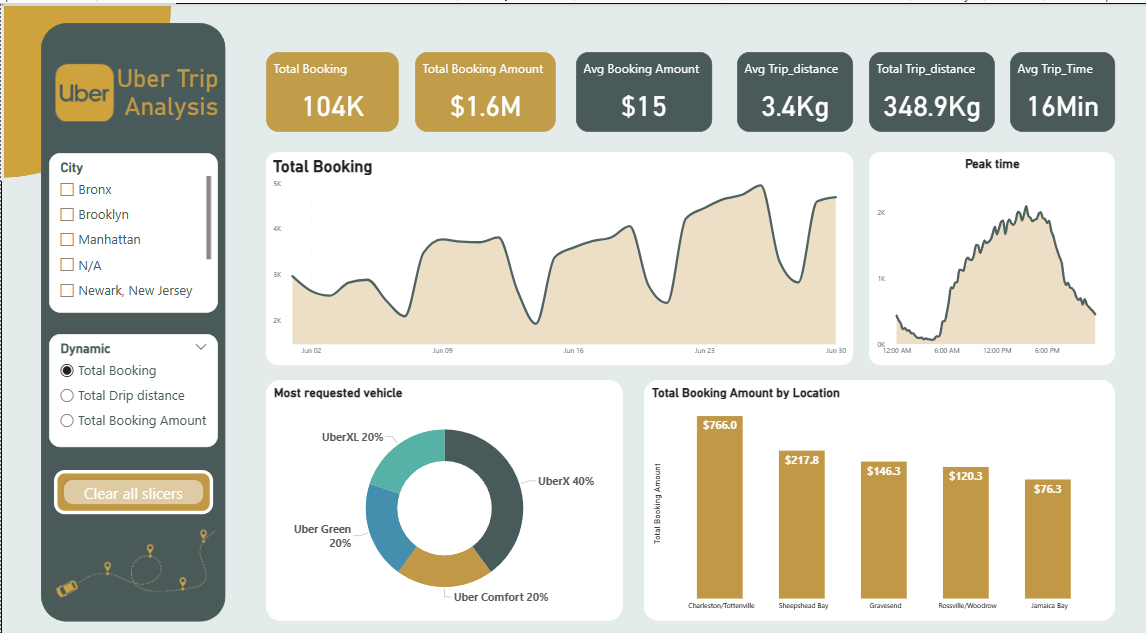

The dashboard page shown, as its layout file describes it:
{"tool":"powerbi","page":{"name":"Page 1","canvas":[2000,1100],"ordinal":0},"visuals":[{"type":"image","box":[0,0,305.2,309.2],"z":0},{"type":"shape","box":[70.3,34.1,321.3,1042.2],"z":1000},{"type":"card","fields":{"Values":["_Measure.Total Booking"]},"box":[461.2,85.3,231.5,139.2],"z":2000},{"type":"card","fields":{"Values":["_Measure.Total Booking Amount"]},"box":[720.6,85.3,245.4,139.2],"z":3000},{"type":"card","fields":{"Values":["_Measure.Avrage Booking Amount"]},"box":[1000.8,85.3,236.7,139.2],"z":4000},{"type":"card","fields":{"Values":["_Measure.Averaage Trip_distance"]},"box":[1281,85.3,201.9,139.2],"z":5000},{"type":"card","fields":{"Values":["_Measure.Total Drip distance"]},"box":[1510.8,85.3,219.3,139.2],"z":6000},{"type":"card","fields":{"Values":["_Measure.Avg Trip Time"]},"box":[1756.2,85.3,182.8,139.2],"z":7000},{"type":"areaChart","title":"Total Booking ","fields":{"Y":["_Measure.Total Booking"],"Category":["Calendar.Date.Variation.Date Hierarchy.Year","Calendar.Date.Variation.Date Hierarchy.Quarter","Calendar.Date.Variation.Date Hierarchy.Month","Calendar.Date.Variation.Date Hierarchy.Day"]},"box":[461.2,259.3,1021.7,370.7],"z":8000},{"type":"slicer","fields":{"Values":["Dynamic .Dynamic "]},"box":[83.5,576.1,294.1,196.7],"z":9000},{"type":"clusteredColumnChart","fields":{"Category":["Location.Location"],"Y":["_Measure.Total Booking Amount"]},"box":[1119.1,656.2,819.8,419.5],"z":10000},{"type":"donutChart","title":"Most requested vehicle ","fields":{"Category":["Trip Details.Vehicle"],"Y":["_Measure.Total Booking"]},"box":[461.2,656.2,621.4,419.5],"z":11000},{"type":"areaChart","title":"Peak time","fields":{"Y":["_Measure.Total Booking"],"Category":["Trip Details.Pickup Hour (bins)"]},"box":[1510,259,427.7,371.5],"z":12000},{"type":"textbox","box":[88.3,100.6,294.5,159.5],"z":13000},{"type":"image","box":[88.4,100.4,114.5,110.4],"z":14000},{"type":"slicer","fields":{"Values":["Location.City"]},"box":[83.5,261.1,294.1,278.5],"z":15000},{"type":"actionButton","box":[92.2,812.8,276.7,76.6],"z":16000},{"type":"image","box":[76.6,847.6,301.1,252.4],"z":17000}]}

Visuals, with their boxes in screenshot pixels (x1, y1, x2, y2), scaled from the page's 2000x1100 canvas onto the 1146x633 screenshot:
image: {"x1": 0, "y1": 0, "x2": 175, "y2": 178}
shape: {"x1": 40, "y1": 20, "x2": 224, "y2": 619}
card - _Measure.Total Booking: {"x1": 264, "y1": 49, "x2": 397, "y2": 129}
card - _Measure.Total Booking Amount: {"x1": 413, "y1": 49, "x2": 554, "y2": 129}
card - _Measure.Avrage Booking Amount: {"x1": 573, "y1": 49, "x2": 709, "y2": 129}
card - _Measure.Averaage Trip_distance: {"x1": 734, "y1": 49, "x2": 850, "y2": 129}
card - _Measure.Total Drip distance: {"x1": 866, "y1": 49, "x2": 991, "y2": 129}
card - _Measure.Avg Trip Time: {"x1": 1006, "y1": 49, "x2": 1111, "y2": 129}
"Total Booking " areaChart: {"x1": 264, "y1": 149, "x2": 850, "y2": 363}
slicer - Dynamic .Dynamic : {"x1": 48, "y1": 332, "x2": 216, "y2": 445}
clusteredColumnChart - Location.Location x _Measure.Total Booking Amount: {"x1": 641, "y1": 378, "x2": 1111, "y2": 619}
"Most requested vehicle " donutChart: {"x1": 264, "y1": 378, "x2": 620, "y2": 619}
"Peak time" areaChart: {"x1": 865, "y1": 149, "x2": 1110, "y2": 363}
textbox: {"x1": 51, "y1": 58, "x2": 219, "y2": 150}
image: {"x1": 51, "y1": 58, "x2": 116, "y2": 121}
slicer - Location.City: {"x1": 48, "y1": 150, "x2": 216, "y2": 311}
actionButton: {"x1": 53, "y1": 468, "x2": 211, "y2": 512}
image: {"x1": 44, "y1": 488, "x2": 216, "y2": 632}
